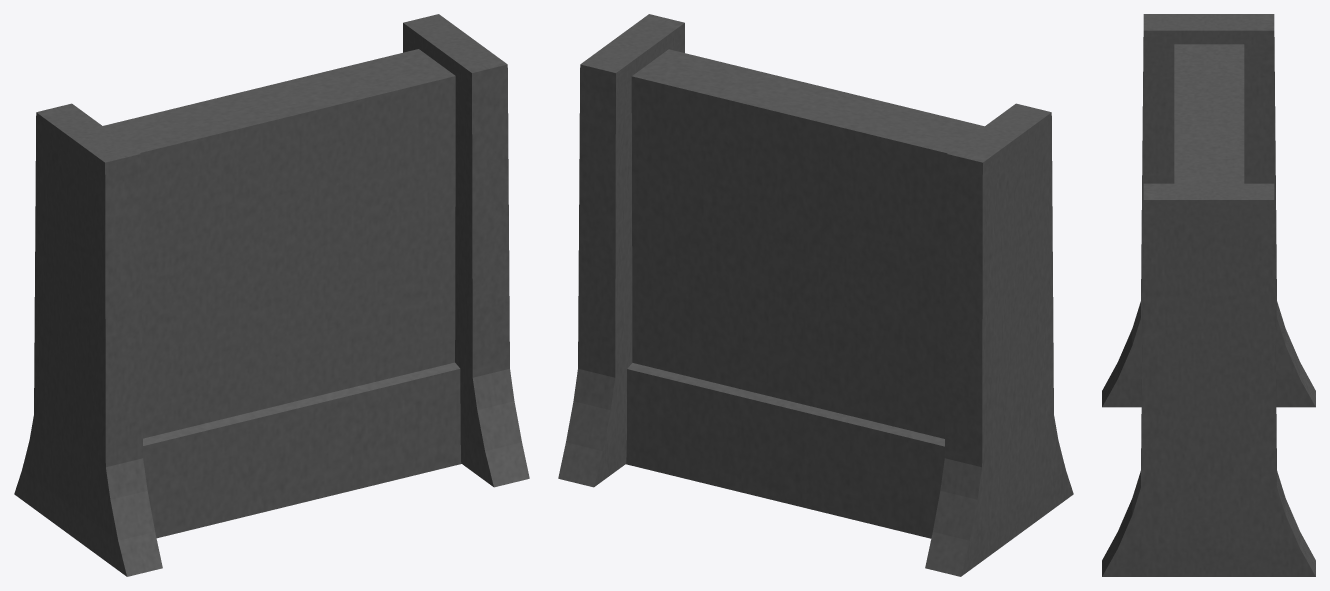
File: MuroMeio.fbx
3 renders of one model, left to right at view 1: azimuth 30°, elevation 25°; view 2: azimuth 150°, elevation 25°; view 3: azimuth 270°, elevation 25°, orthographic. The views are drawn at different scales.
Parts seen in each view (by area): view 1: muroMeioSimples; view 2: muroMeioSimples; view 3: muroMeioSimples.
Boxes of the visible parts, bbox=[...] form: muroMeioSimples: bbox=[14, 14, 529, 576]; muroMeioSimples: bbox=[558, 14, 1073, 576]; muroMeioSimples: bbox=[1102, 14, 1315, 576].
Size of the model in its own units: 4404 by 4152 by 2132.
